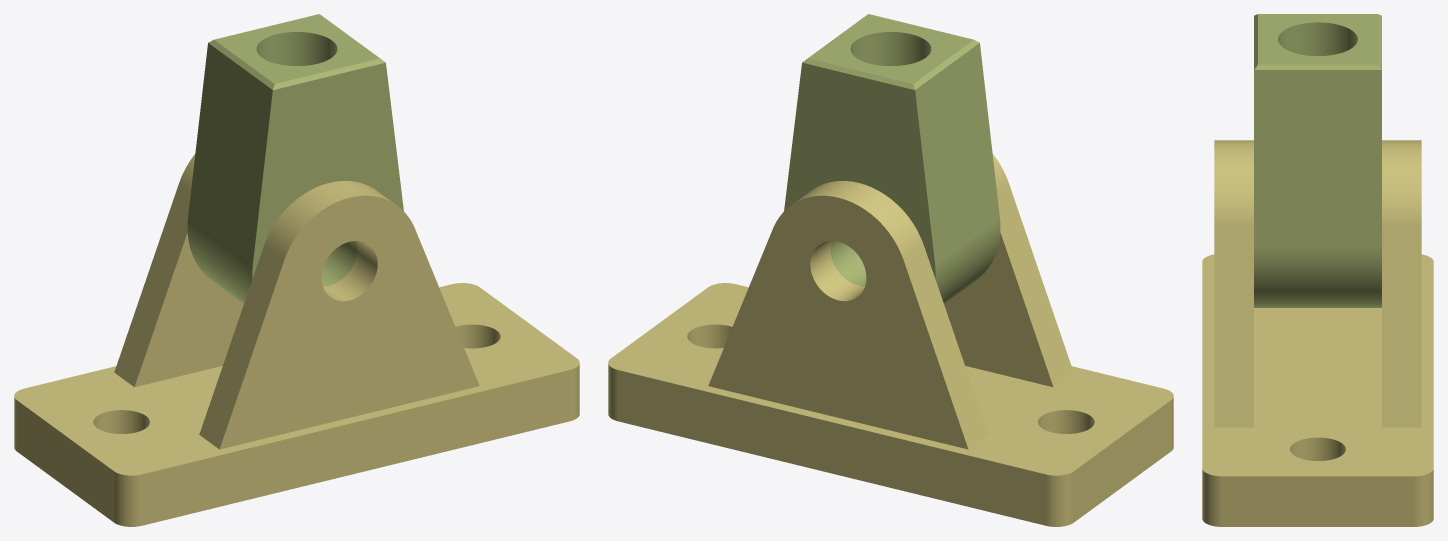
Rendered from step_16.glb.
3 views of the same model, side by side, from view 1: azimuth 30°, elevation 25°; view 2: azimuth 150°, elevation 25°; view 3: azimuth 270°, elevation 25° (orthographic).
Parts seen in each view (by area): view 1: part__base, part__swivel; view 2: part__base, part__swivel; view 3: part__base, part__swivel.
Part boxes in pixels (left/top/right/bottom): part__base: left=14, top=154, right=579, bottom=526; part__swivel: left=187, top=14, right=403, bottom=303; part__base: left=608, top=154, right=1173, bottom=526; part__swivel: left=784, top=14, right=1000, bottom=303; part__base: left=1202, top=140, right=1433, bottom=526; part__swivel: left=1254, top=14, right=1381, bottom=307.
Size of the model in its own units: 132 by 104 by 58.
